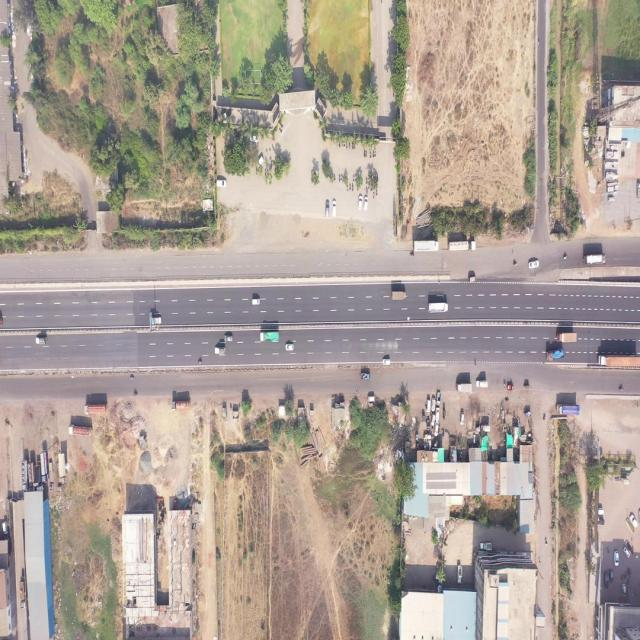3W: (480, 425, 491, 432), (525, 410, 532, 418), (469, 276, 476, 282), (508, 384, 514, 391), (524, 384, 530, 389)
Cars: (630, 514, 638, 528), (249, 134, 258, 143), (216, 179, 226, 187), (357, 196, 362, 212), (614, 550, 619, 566), (623, 547, 630, 558), (434, 421, 439, 436), (2, 522, 8, 534), (609, 569, 614, 583), (604, 572, 608, 589), (363, 197, 368, 210), (224, 335, 233, 342), (257, 156, 263, 166), (460, 411, 464, 425), (622, 583, 626, 597), (285, 344, 294, 350), (382, 359, 391, 365), (598, 517, 604, 526), (333, 200, 336, 217), (326, 201, 329, 218), (597, 508, 604, 515), (431, 398, 435, 410), (253, 299, 260, 305), (368, 396, 375, 402), (427, 399, 430, 413)
LCV: (457, 564, 463, 583), (480, 542, 492, 551), (476, 380, 488, 388), (36, 336, 46, 345), (215, 347, 225, 356), (150, 317, 162, 324), (361, 372, 370, 379), (637, 180, 640, 199), (437, 391, 441, 404)
M2W: (372, 189, 375, 199), (618, 387, 623, 393), (369, 150, 372, 159), (348, 141, 351, 149), (338, 174, 341, 182), (198, 359, 202, 365), (334, 172, 336, 182), (130, 375, 134, 380), (366, 176, 368, 185), (365, 149, 367, 158), (364, 149, 366, 158), (352, 183, 354, 192), (279, 128, 282, 134), (366, 186, 368, 194), (374, 150, 376, 158), (372, 150, 374, 158), (352, 142, 354, 150), (134, 393, 138, 397), (514, 262, 517, 267), (506, 397, 509, 402), (376, 189, 378, 196), (352, 175, 354, 182), (349, 183, 351, 190), (346, 185, 348, 192), (622, 151, 624, 158), (504, 381, 506, 388), (544, 413, 546, 420), (411, 254, 414, 258), (564, 256, 567, 260), (265, 169, 266, 175), (344, 143, 345, 148)
MAV: (597, 354, 640, 368), (448, 240, 476, 252), (40, 451, 50, 483), (414, 240, 438, 252), (69, 425, 91, 438), (85, 404, 108, 414), (22, 460, 28, 491), (171, 401, 190, 410), (19, 581, 25, 609)
Truck: (556, 403, 579, 416), (557, 331, 577, 343), (584, 254, 606, 264), (546, 349, 564, 361), (429, 302, 448, 312), (260, 332, 279, 341), (456, 383, 472, 392), (392, 291, 406, 300), (528, 261, 538, 269)
